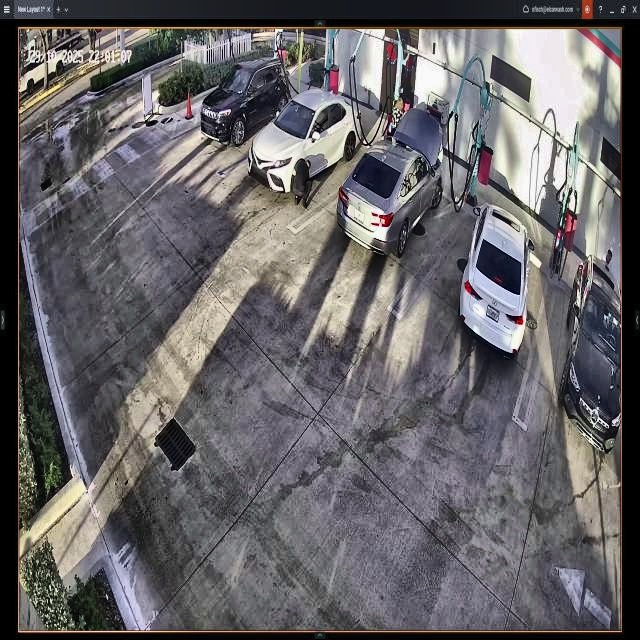Car: (339, 115, 442, 256), (249, 91, 360, 193), (459, 201, 530, 355), (201, 62, 290, 146)
